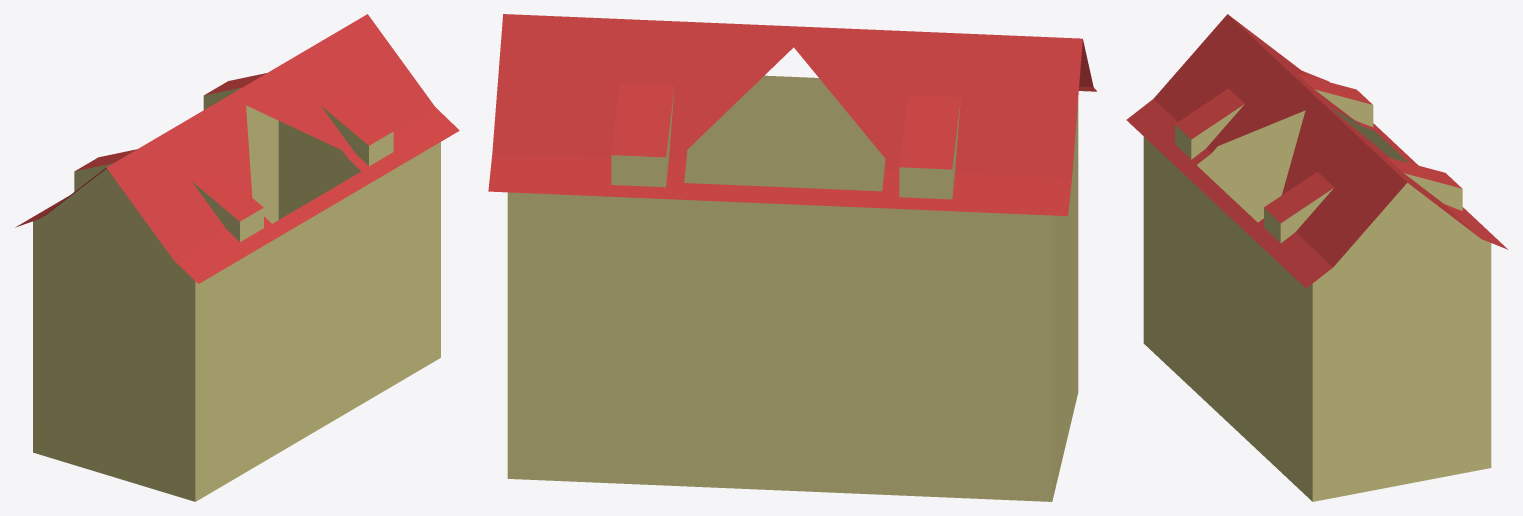
3 views of the same model, side by side, from view 1: azimuth 30°, elevation 25°; view 2: azimuth 150°, elevation 25°; view 3: azimuth 270°, elevation 25° (orthographic). The views are drawn at different scales.
Size of the model in its own units: 27.79 by 21.68 by 19.23.
